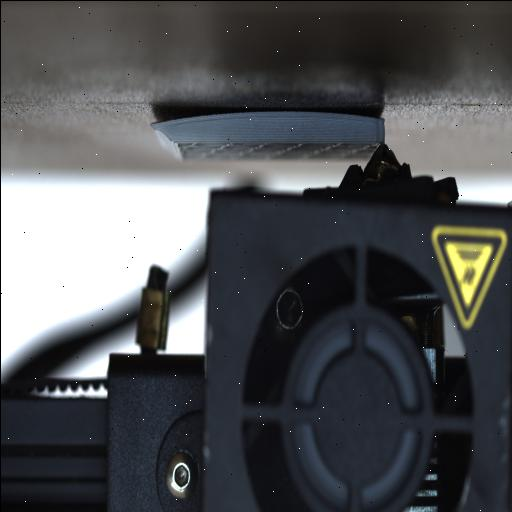warp: (146, 105, 210, 133)
